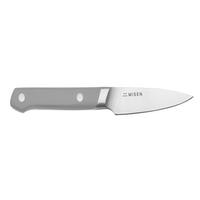knife: (8, 74, 198, 124)
